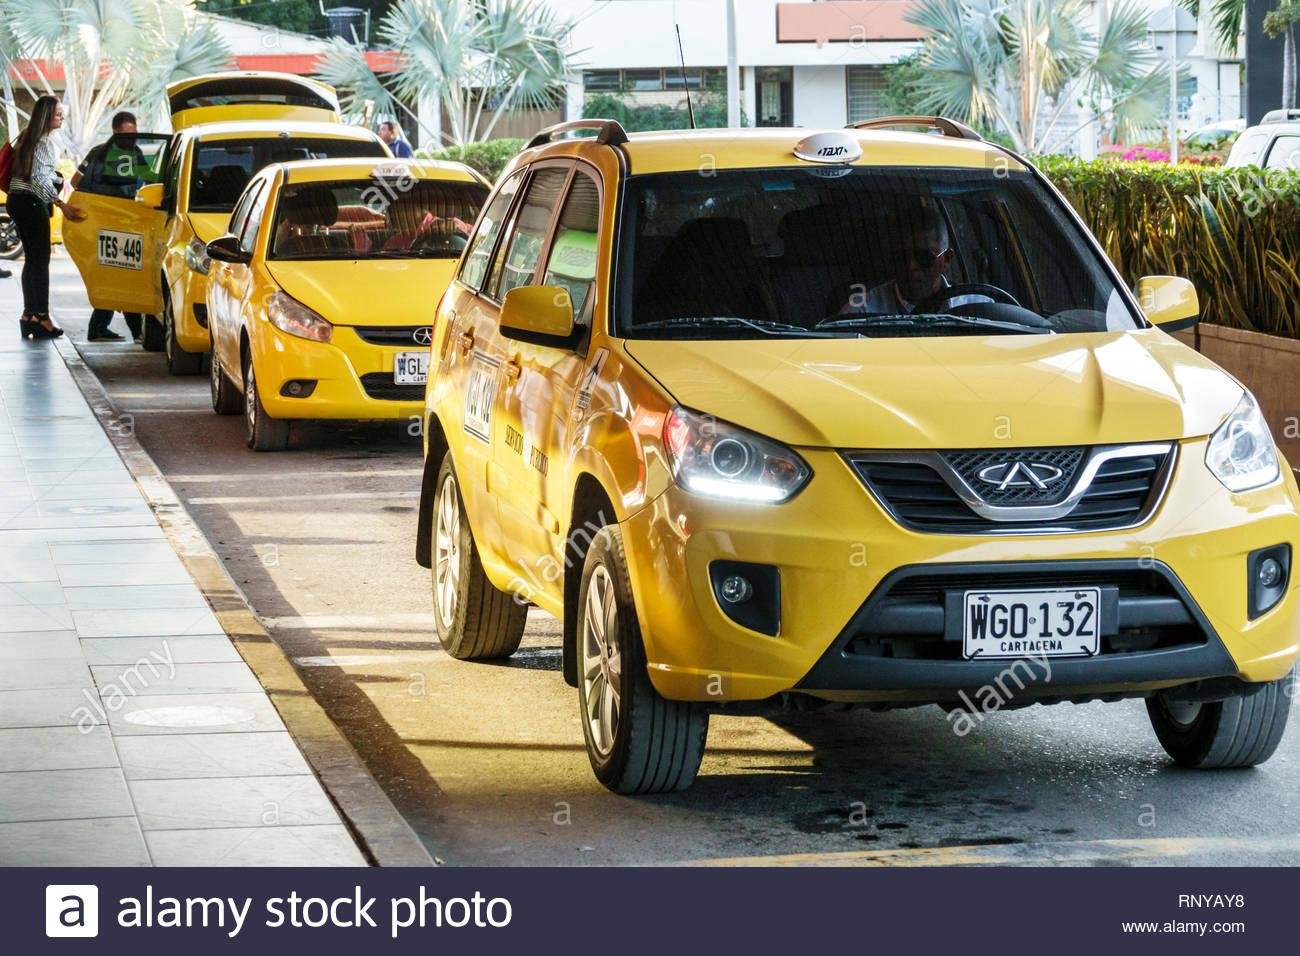taxi: (423, 81, 1300, 768)
